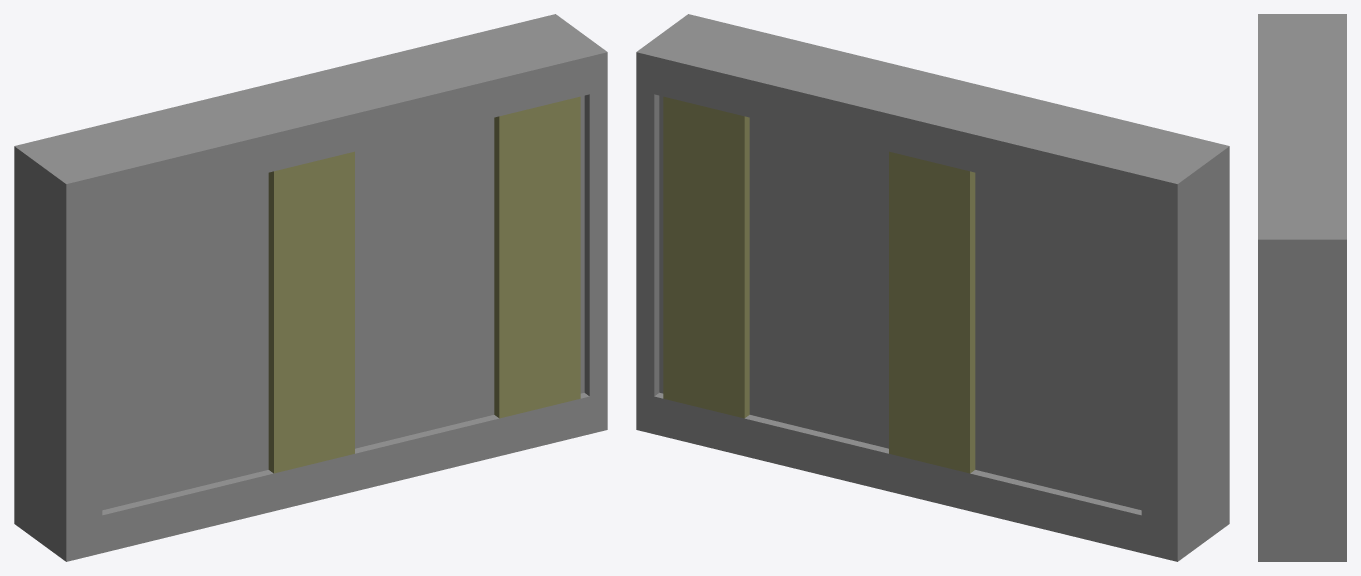
File: Conference Wall 4.obj
3 renders of one model, left to right at view 1: azimuth 30°, elevation 25°; view 2: azimuth 150°, elevation 25°; view 3: azimuth 270°, elevation 25°, orthographic. The views are drawn at different scales.
Bounding box in the file's own units: 60 × 40 × 10.
1 material, 1 textured.
